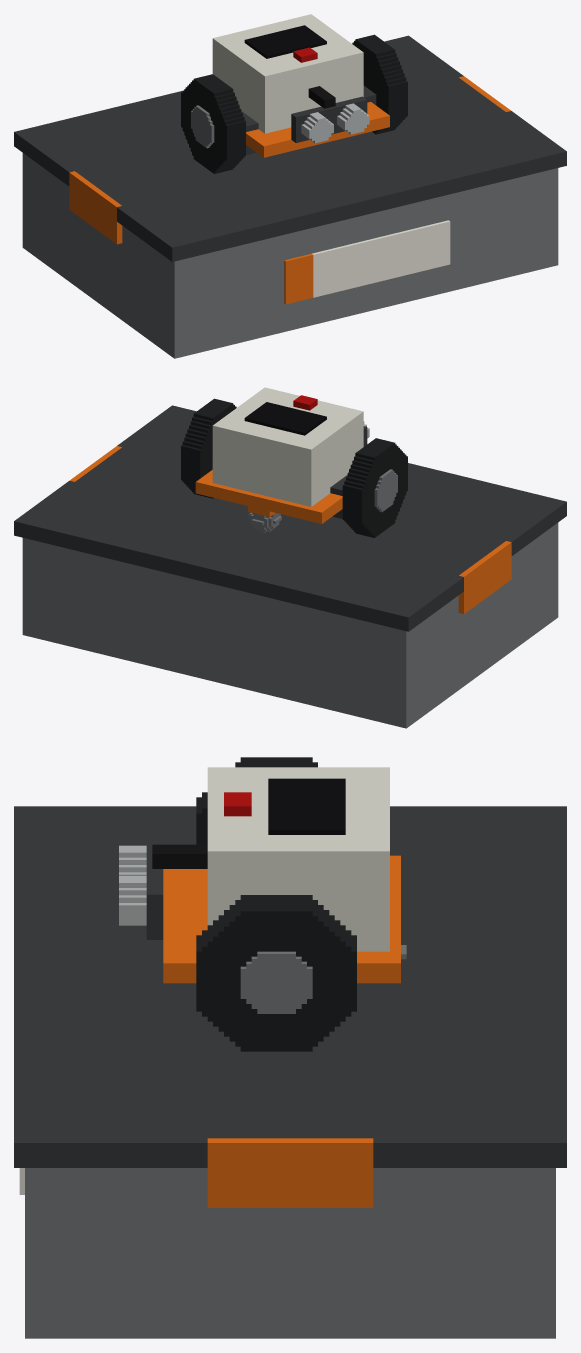
The model's file is engineering_robotics_kit.glb.
The picture shows the model from 3 angles, top to bottom: view 1: azimuth 30°, elevation 25°; view 2: azimuth 150°, elevation 25°; view 3: azimuth 270°, elevation 25°; orthographic projection. The views are drawn at different scales.
Visible parts, largest first — view 1: engineering_robotics_kit:compound; view 2: engineering_robotics_kit:compound; view 3: engineering_robotics_kit:compound.
Boxes of the visible parts, bbox=[...] form: engineering_robotics_kit:compound: bbox=[14, 14, 566, 358]; engineering_robotics_kit:compound: bbox=[14, 387, 566, 728]; engineering_robotics_kit:compound: bbox=[14, 757, 566, 1338].
Size of the model in its own units: 0.288 by 0.15 by 0.2.
